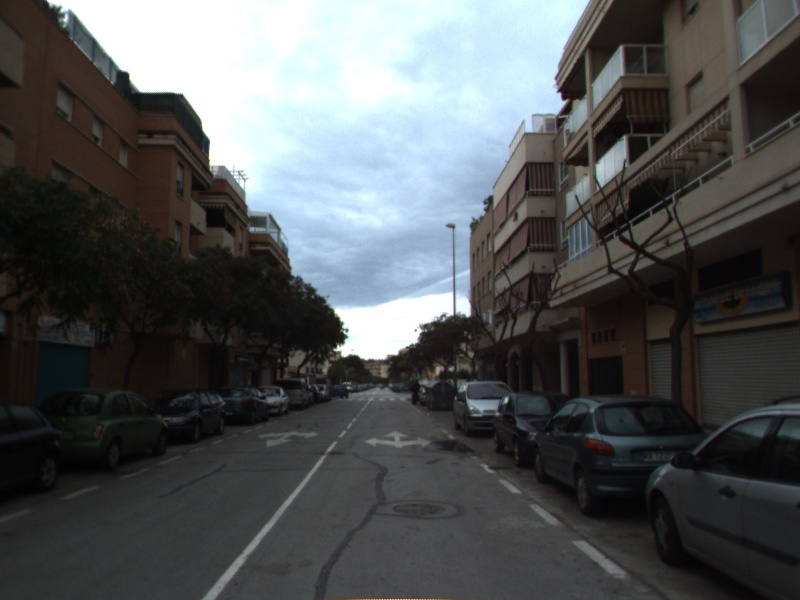STRAIGHT_LEFT_RIGHT: (362, 429, 434, 450)
